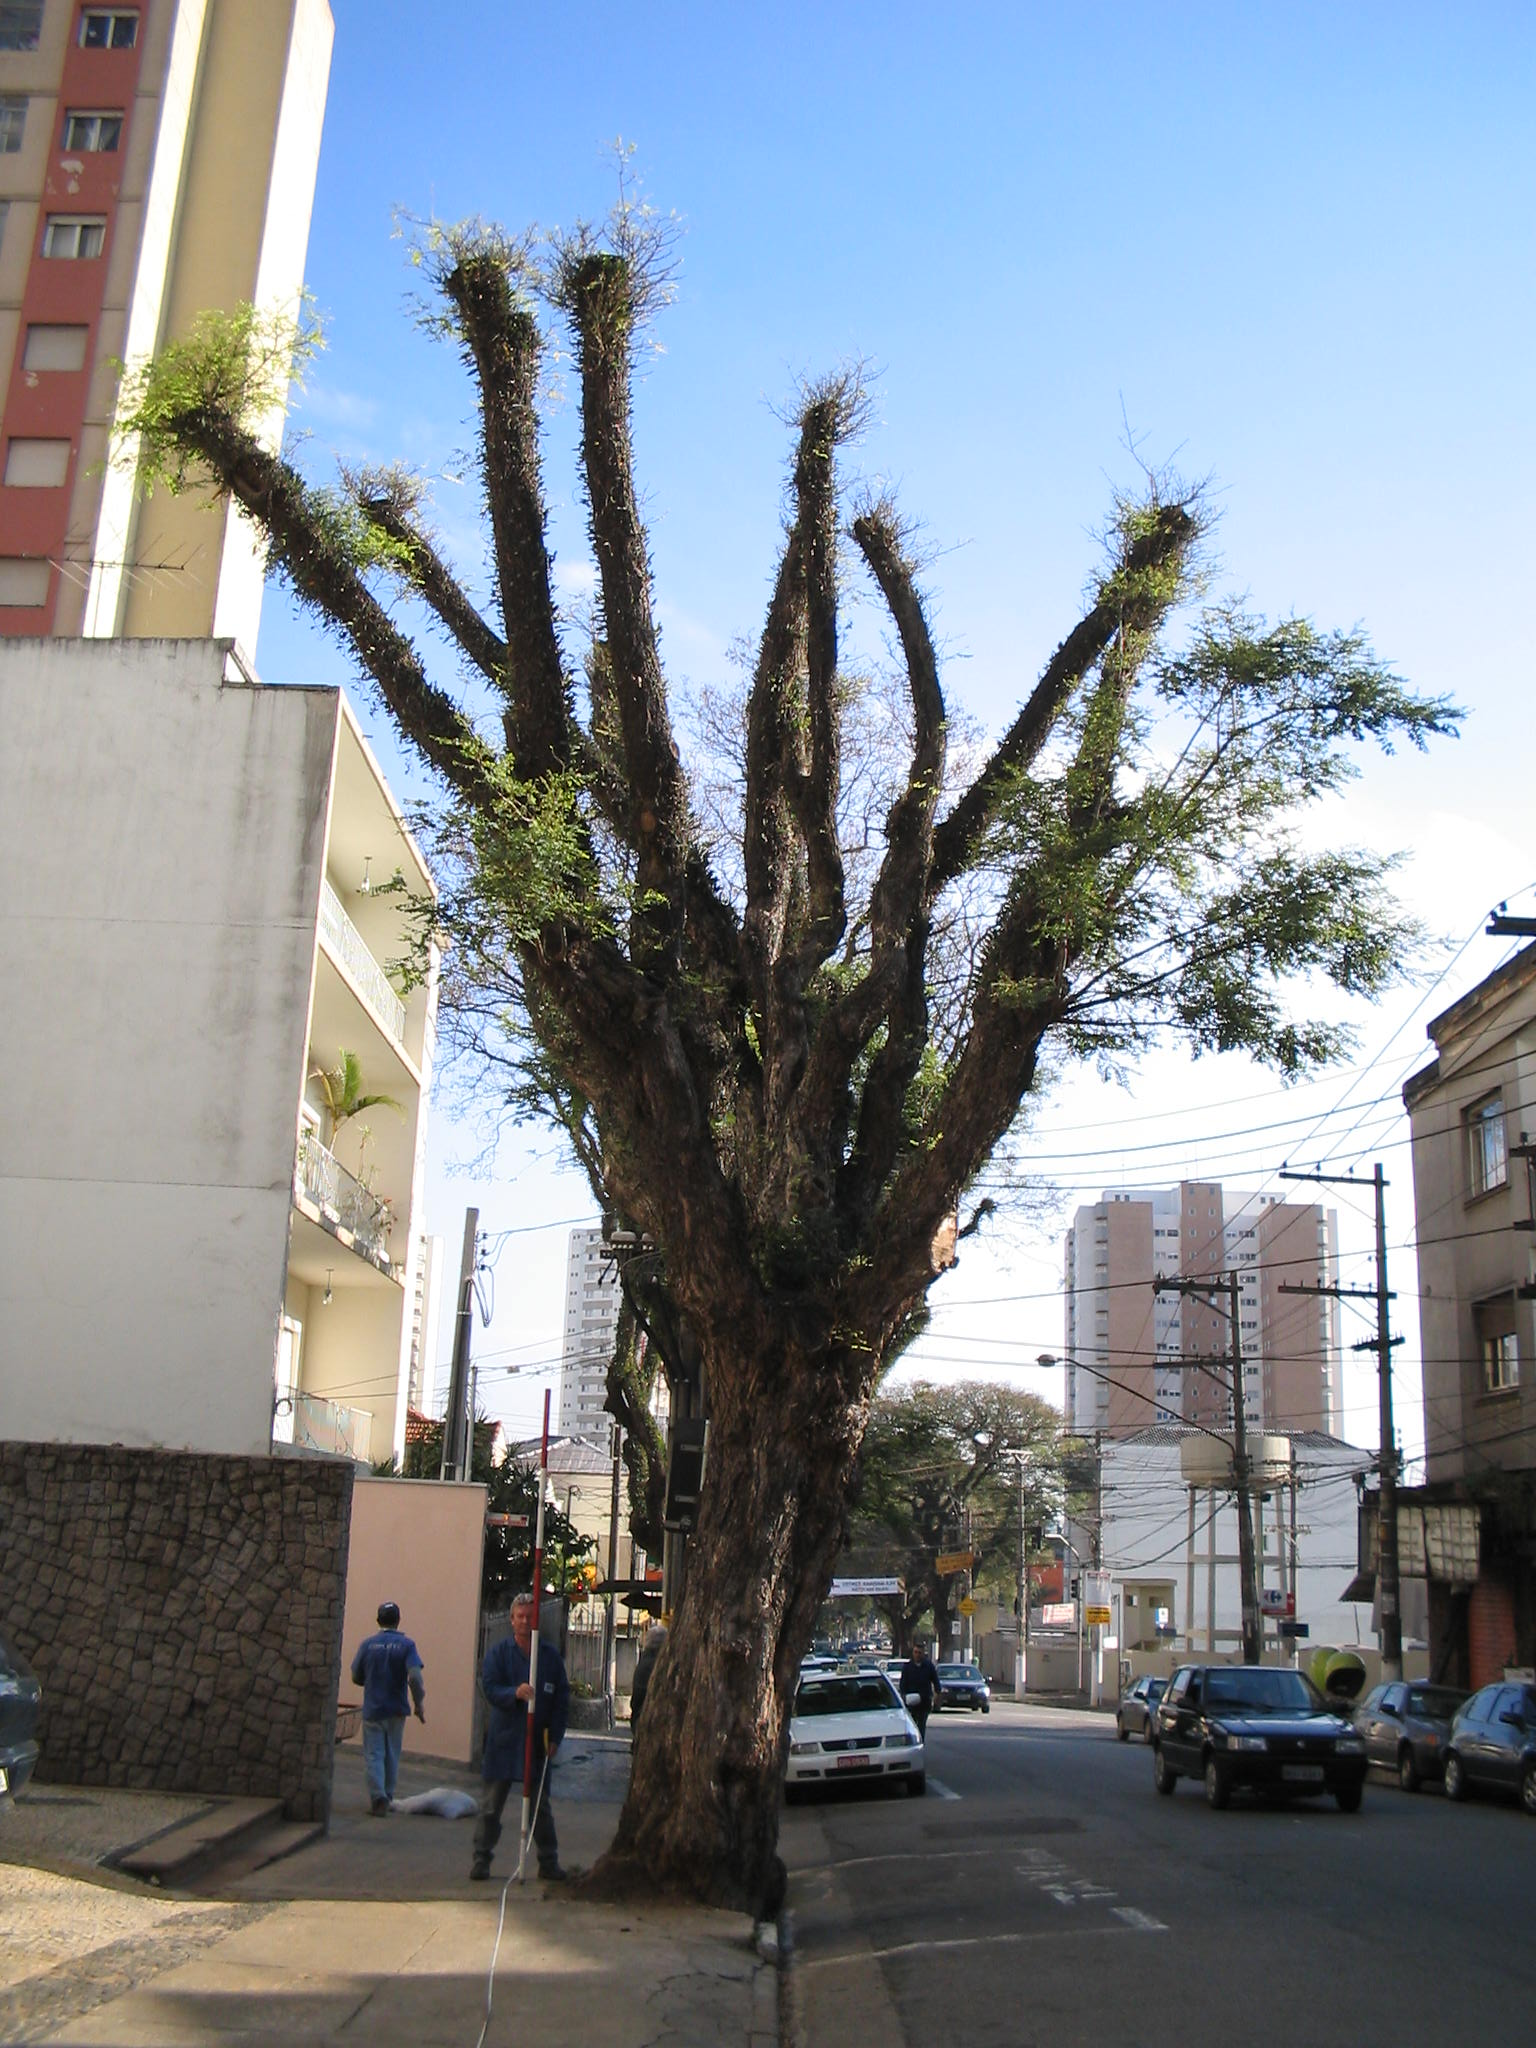stem: (586, 1337, 899, 1908)
stick: (503, 1387, 570, 1893)
tree: (110, 153, 1478, 1913)
